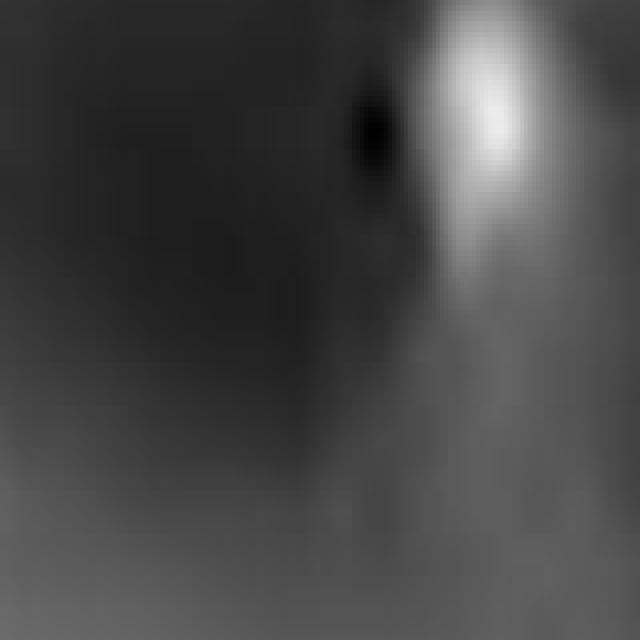person: (365, 1, 589, 486)
